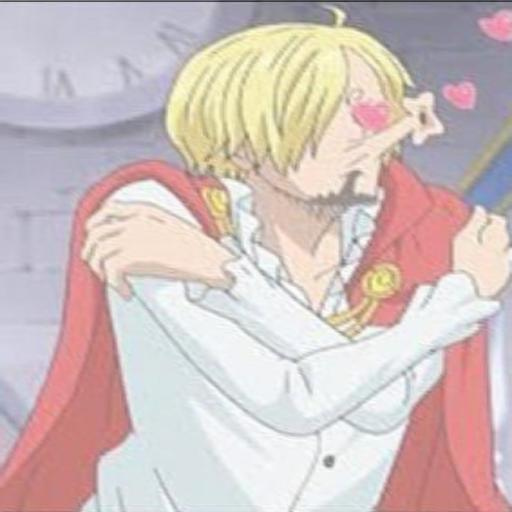sanji: (16, 10, 509, 512)
